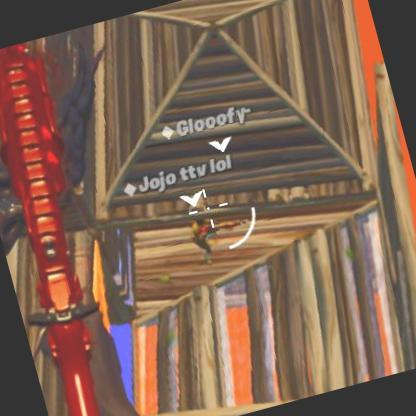person: (185, 208, 234, 270)
